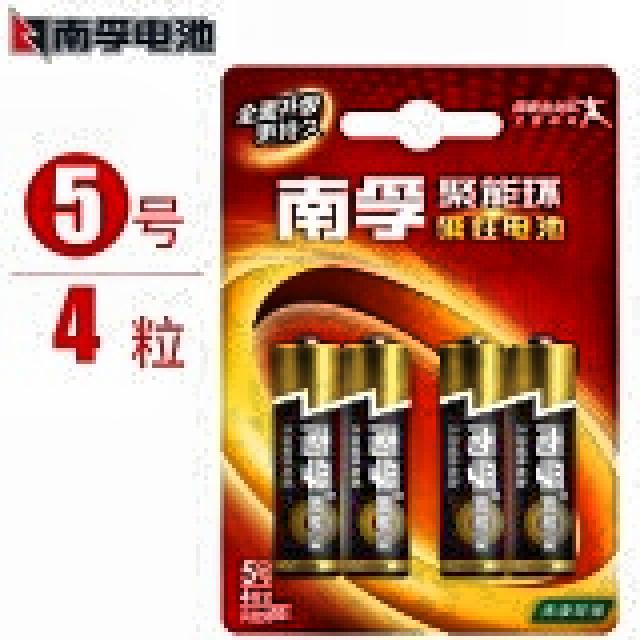Non-Valuable Waste - Batteries: (441, 340, 576, 574), (274, 340, 406, 574)
